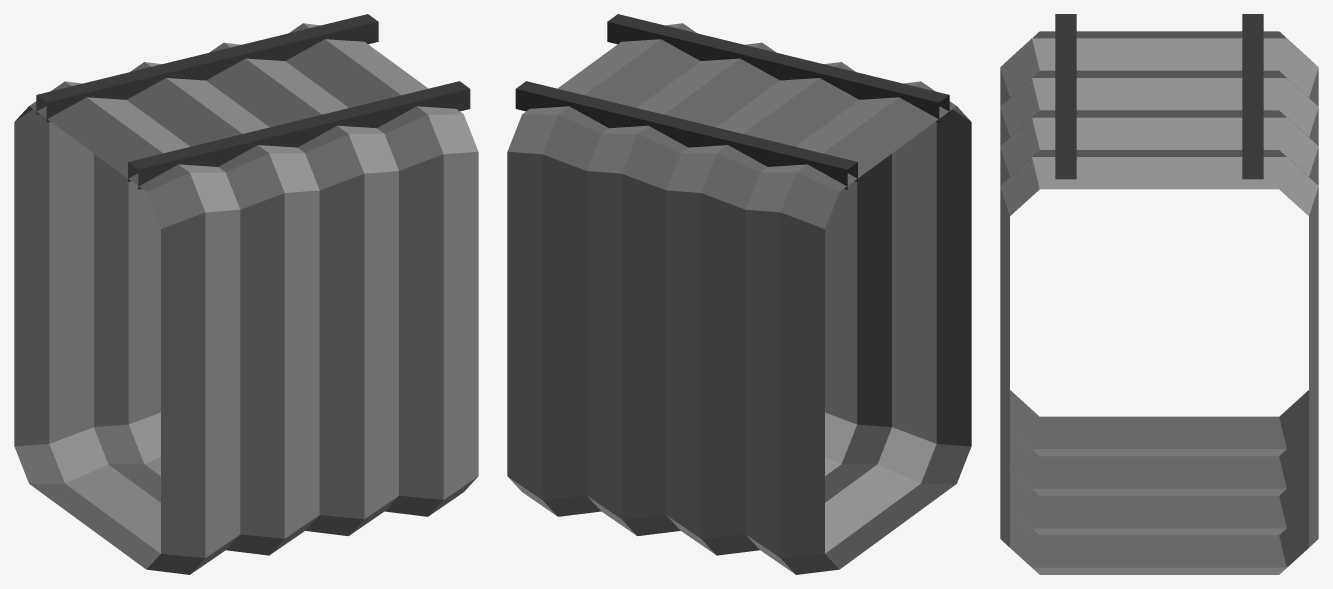
The model's file is Building_Tunnel_Straight.fbx.
The picture shows the model from 3 angles, left to right: view 1: azimuth 30°, elevation 25°; view 2: azimuth 150°, elevation 25°; view 3: azimuth 270°, elevation 25°; orthographic projection. The views are drawn at different scales.
Visible parts, largest first — view 1: Building_Tunnel_Straight; view 2: Building_Tunnel_Straight; view 3: Building_Tunnel_Straight.
Boxes of the visible parts, x1=… form: Building_Tunnel_Straight: x1=14, y1=14, x2=478, y2=574; Building_Tunnel_Straight: x1=507, y1=14, x2=971, y2=574; Building_Tunnel_Straight: x1=1000, y1=14, x2=1318, y2=574.
Size of the model in its own units: 209 by 245 by 170.
